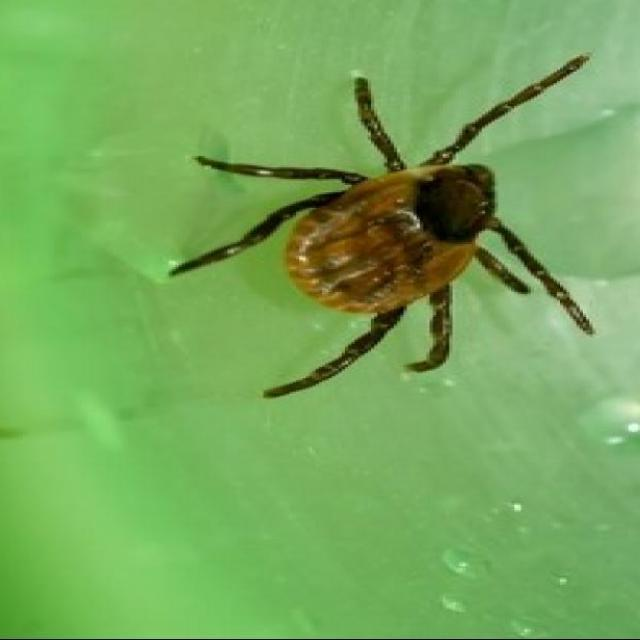Rhipicephalus Sanguineus-F: (169, 55, 593, 396)
